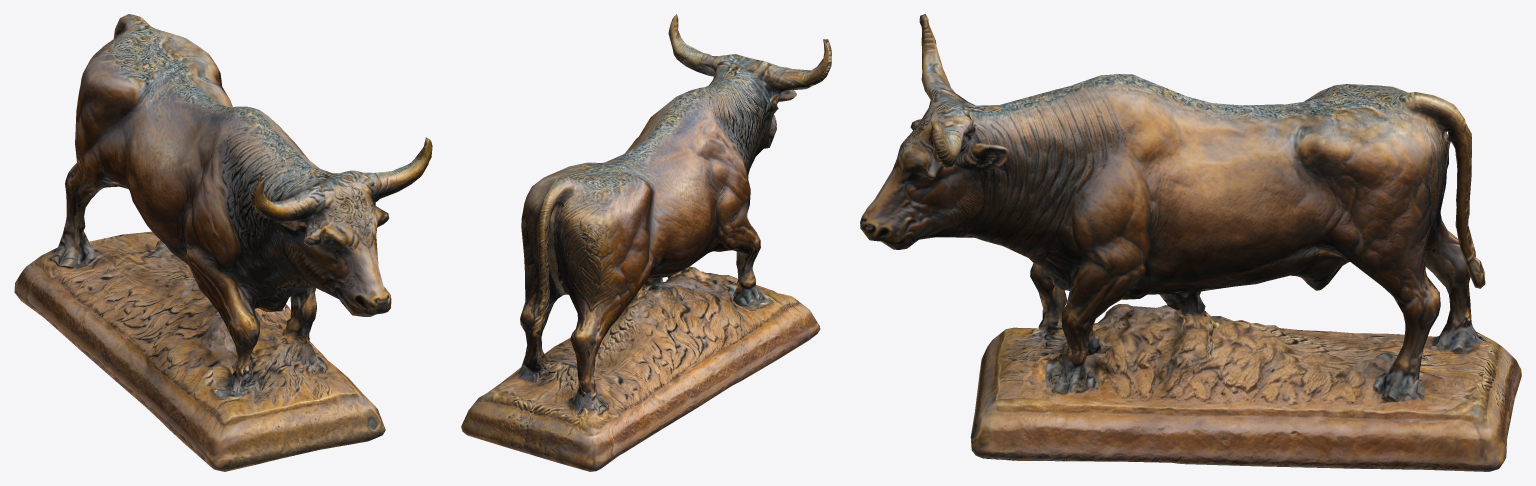
Rendered from uploads_files_5423400_A_charging_bull_statu_0725030443_refine.glb.
3 views of the same model, side by side, from view 1: azimuth 30°, elevation 25°; view 2: azimuth 150°, elevation 25°; view 3: azimuth 270°, elevation 25° (orthographic). The views are drawn at different scales.
Size of the model in its own units: 0.4703 by 0.7544 by 1.2.
Materials: 1 (1 with a texture image).
